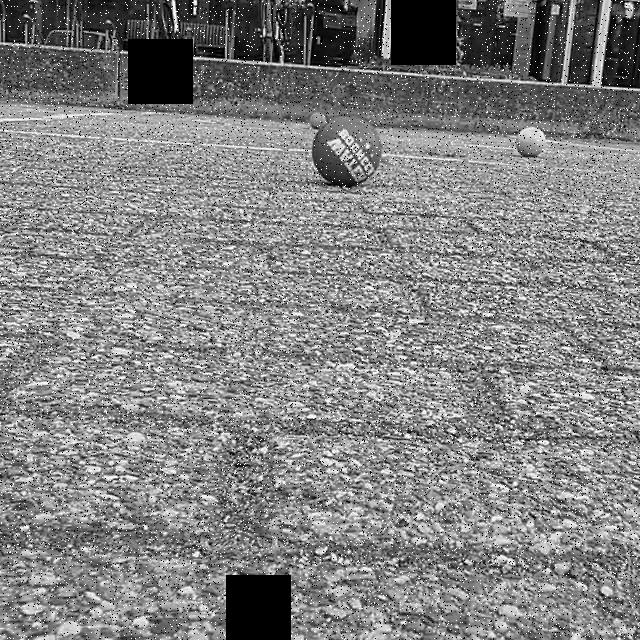ball: (514, 122, 548, 161), (308, 108, 326, 131)
